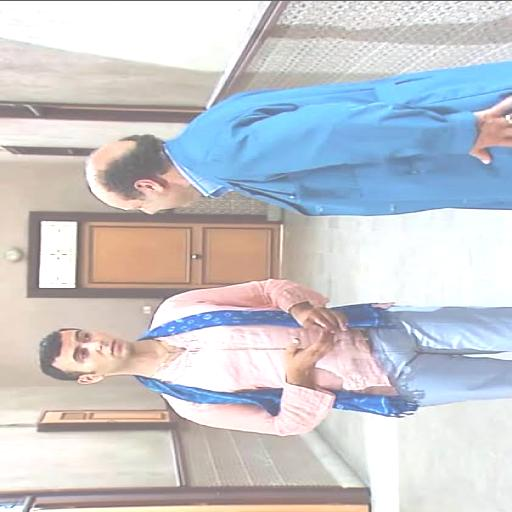beji_matrix: (85, 135, 199, 214)
